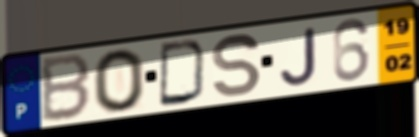6: (330, 17, 371, 85)
B: (39, 52, 93, 125)
D: (157, 38, 210, 108)
J: (277, 24, 319, 88)
O: (90, 47, 148, 115)
S: (210, 32, 264, 99)
